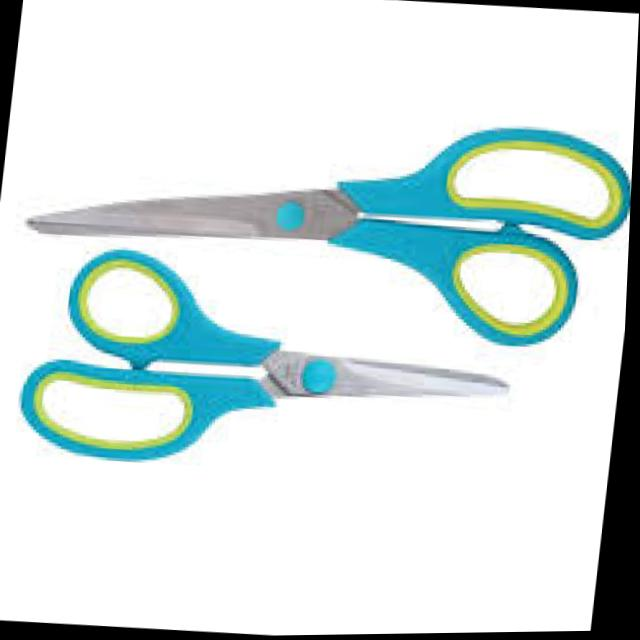scissor: (16, 89, 637, 359), (14, 238, 528, 492)
